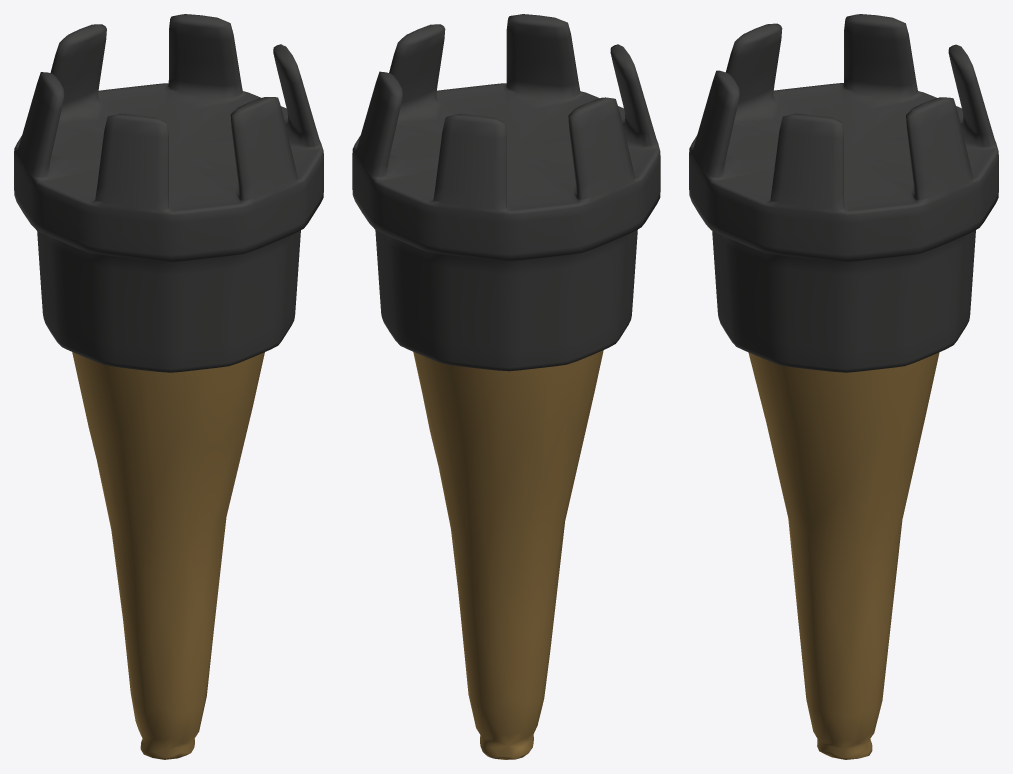
Rendered from torch.fbx.
3 views of the same model, side by side, from view 1: azimuth 30°, elevation 25°; view 2: azimuth 150°, elevation 25°; view 3: azimuth 270°, elevation 25° (orthographic).
Visible parts, largest first — view 1: Cylinder.002, Cylinder.001; view 2: Cylinder.002, Cylinder.001; view 3: Cylinder.002, Cylinder.001.
Boxes of the visible parts, bbox=[...] form: Cylinder.002: bbox=[14, 14, 323, 372]; Cylinder.001: bbox=[72, 352, 264, 759]; Cylinder.002: bbox=[352, 14, 660, 371]; Cylinder.001: bbox=[413, 350, 603, 759]; Cylinder.002: bbox=[689, 14, 998, 372]; Cylinder.001: bbox=[748, 352, 939, 759].
Size of the model in its own units: 50.18 by 123 by 50.21.
